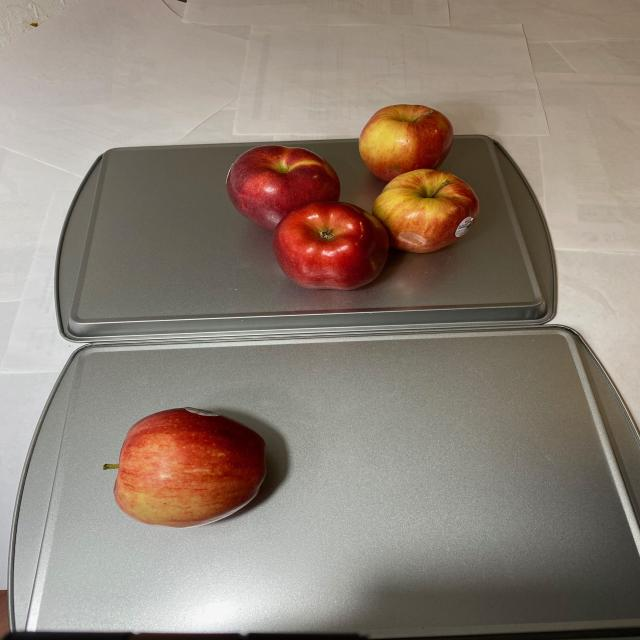Apple: (220, 105, 484, 290), (99, 404, 276, 527)
